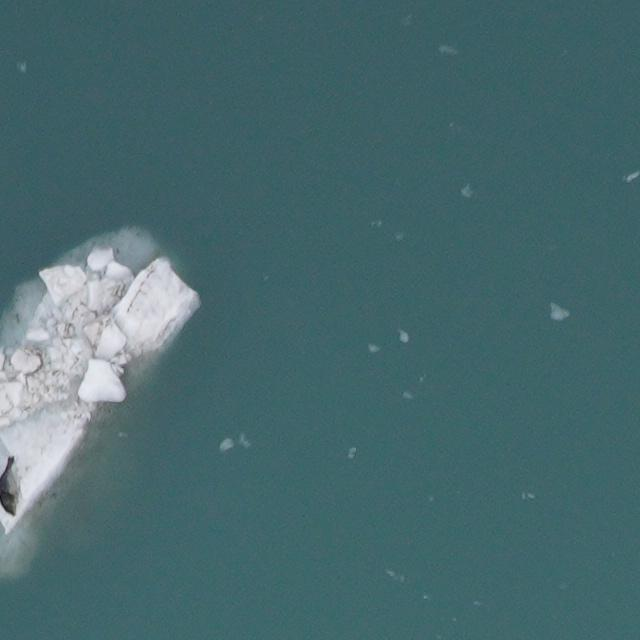seal: (0, 452, 24, 518)
